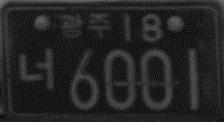0: (103, 48, 136, 112), (140, 47, 173, 111)
1: (186, 46, 200, 110), (121, 12, 134, 45)
6: (68, 48, 100, 109)
8: (139, 13, 161, 43)
광주_O: (60, 11, 112, 41)
너: (16, 47, 56, 92)
